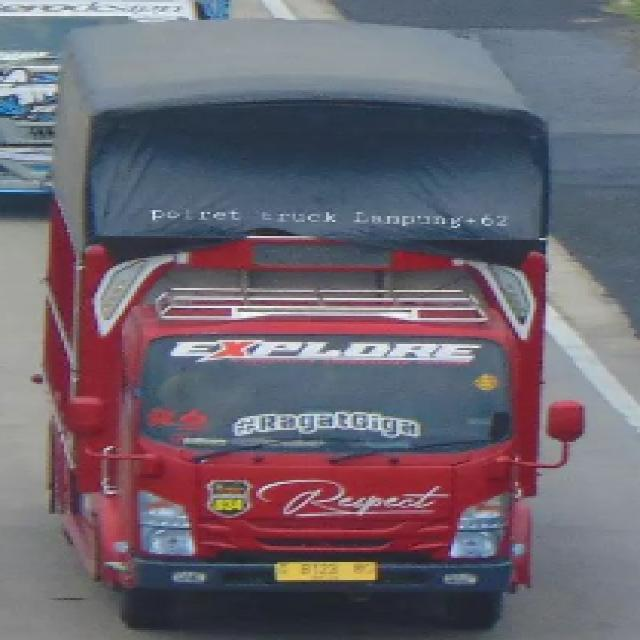Truck: (41, 14, 600, 637)
